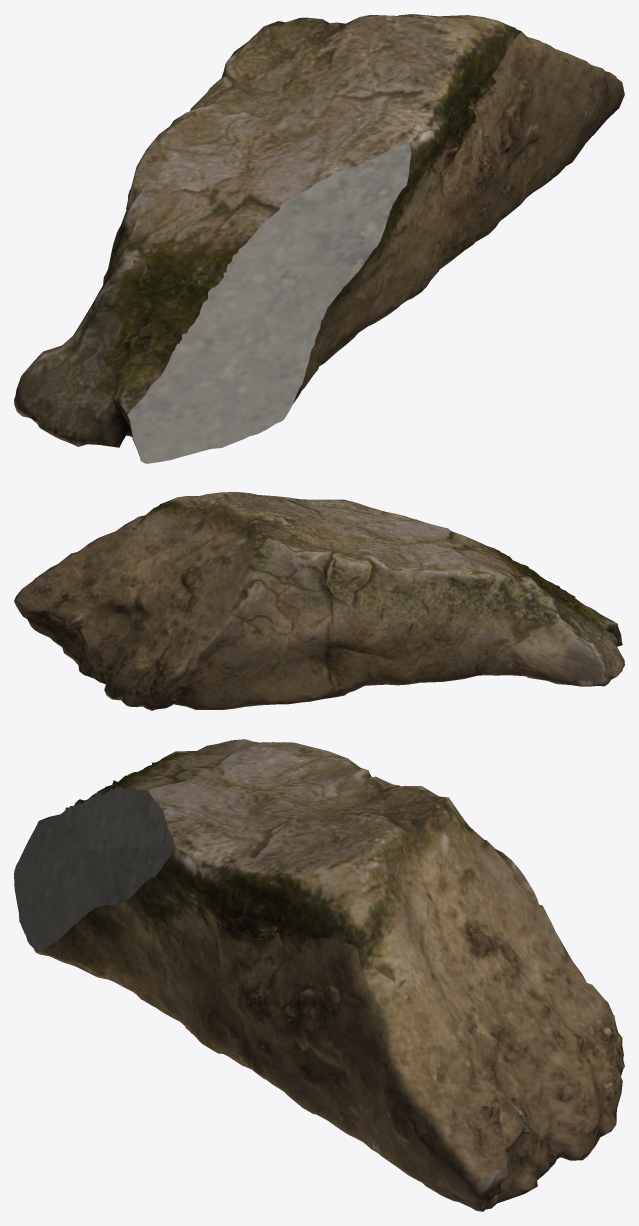
The model's file is stone_sharp.glb.
The picture shows the model from 3 angles, top to bottom: view 1: azimuth 30°, elevation 25°; view 2: azimuth 150°, elevation 25°; view 3: azimuth 270°, elevation 25°; orthographic projection. The views are drawn at different scales.
Parts seen in each view (by area): view 1: stone_sharp; view 2: stone_sharp; view 3: stone_sharp.
Part boxes in pixels (<box>): stone_sharp: <box>14,14,624,463</box>; stone_sharp: <box>14,492,624,710</box>; stone_sharp: <box>14,739,624,1211</box>.
Size of the model in its own units: 0.115 by 0.036 by 0.0733.
2 materials, 2 textured.
